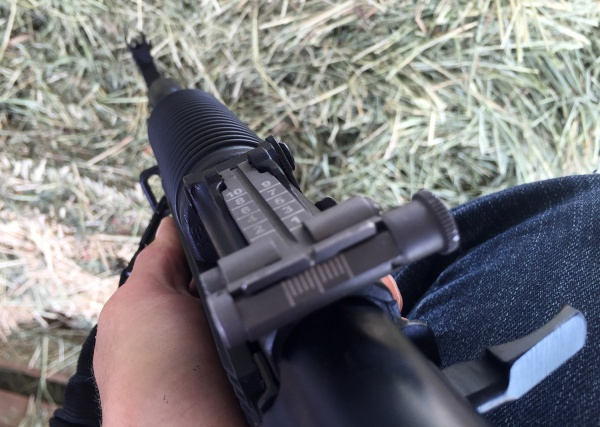ak47: (116, 41, 455, 427)
